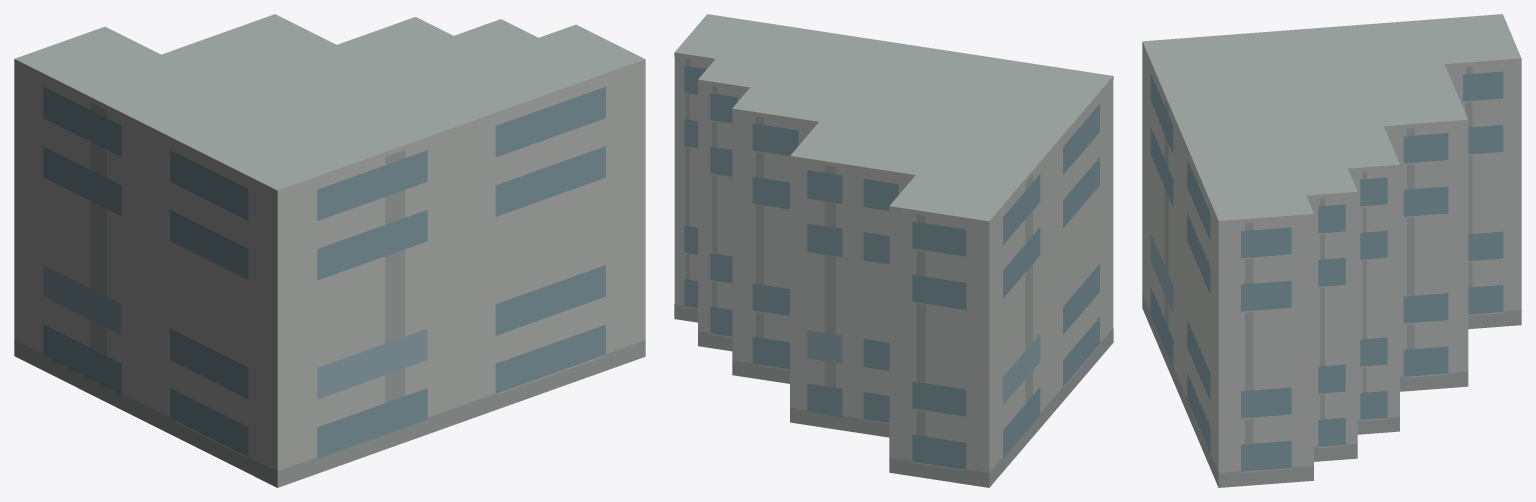
The model's file is residential-4b332553-f495-4c86-9693-ab299c9f9863.glb.
3 renders of one model, left to right at view 1: azimuth 30°, elevation 25°; view 2: azimuth 150°, elevation 25°; view 3: azimuth 270°, elevation 25°, orthographic. The views are drawn at different scales.
Parts seen in each view (by area): view 1: residential-4b332553-f495-4c86-9693-ab299c9f9863.tmp; view 2: residential-4b332553-f495-4c86-9693-ab299c9f9863.tmp; view 3: residential-4b332553-f495-4c86-9693-ab299c9f9863.tmp.
Boxes of the visible parts, x1,y1,x2,y2 form: residential-4b332553-f495-4c86-9693-ab299c9f9863.tmp: (14,14,645,487); residential-4b332553-f495-4c86-9693-ab299c9f9863.tmp: (674,14,1113,487); residential-4b332553-f495-4c86-9693-ab299c9f9863.tmp: (1142,14,1521,487).
Bounding box in the file's own units: 25.39 × 15.25 × 19.65.
